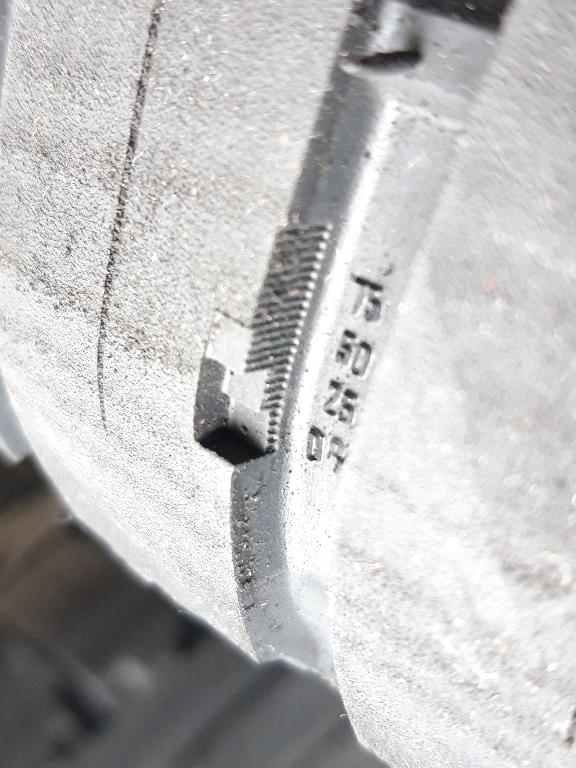temoin:50: (183, 300, 308, 474)
